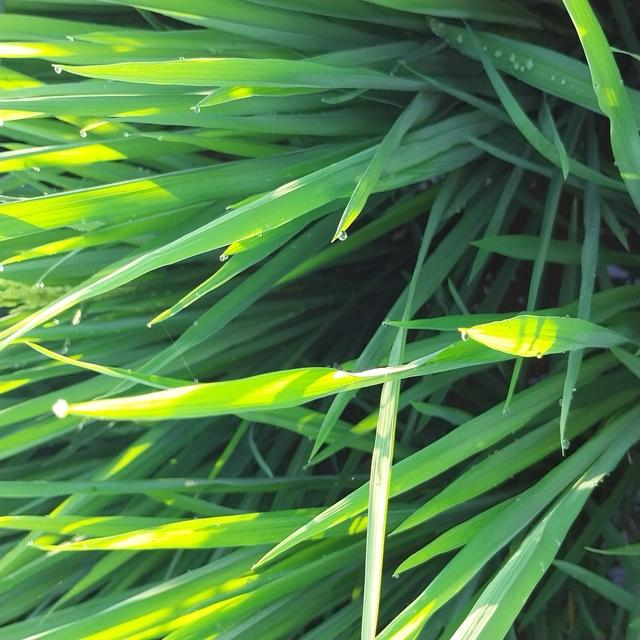brown plant hopper: (292, 342, 501, 403)
